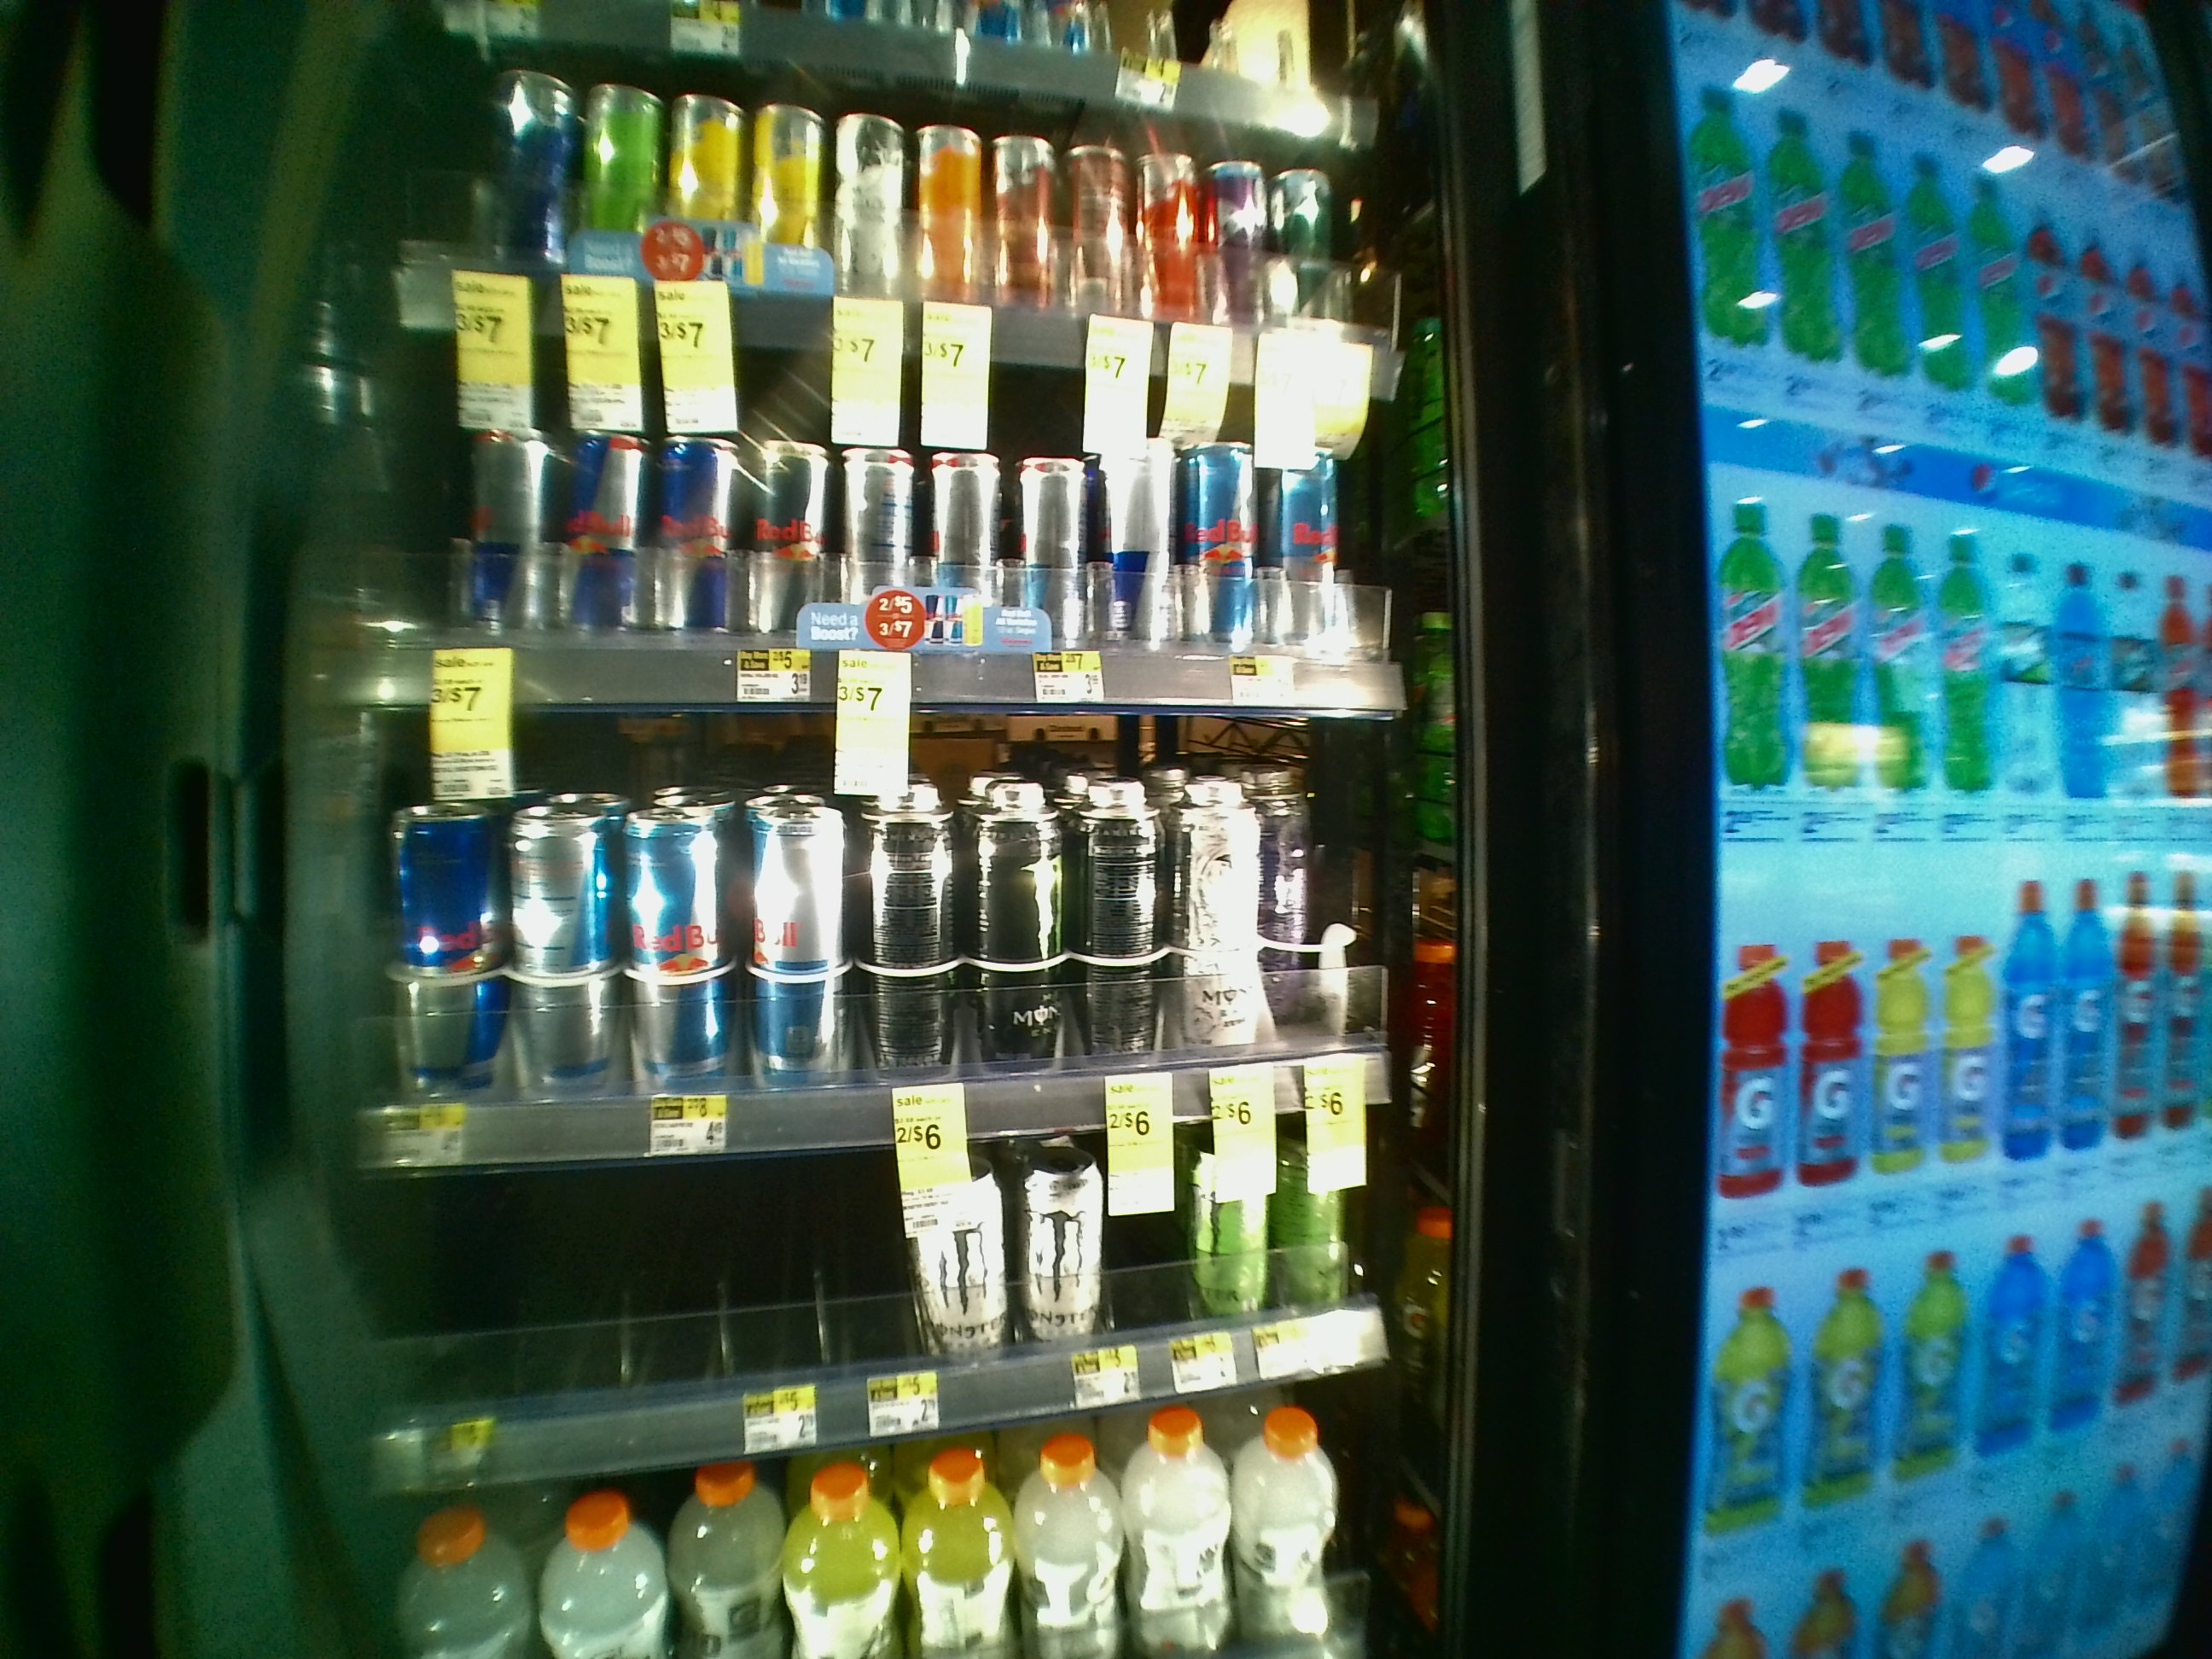shelf: (368, 709, 1456, 1161), (390, 340, 1468, 709)
